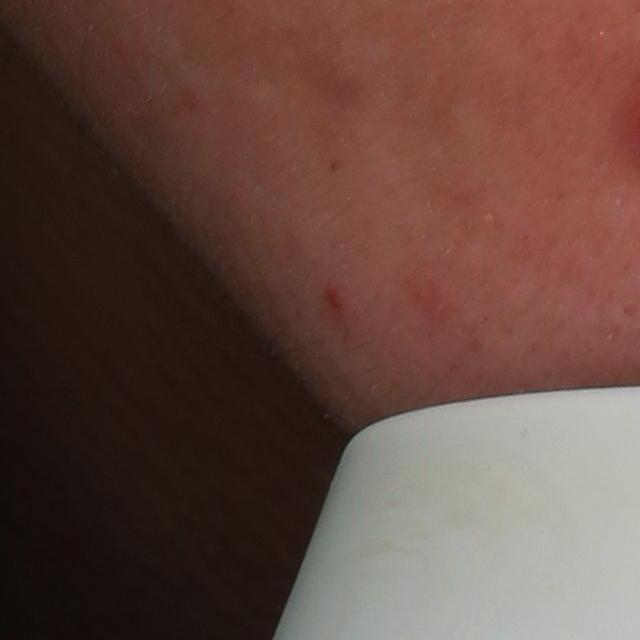papule: (322, 277, 348, 321)
